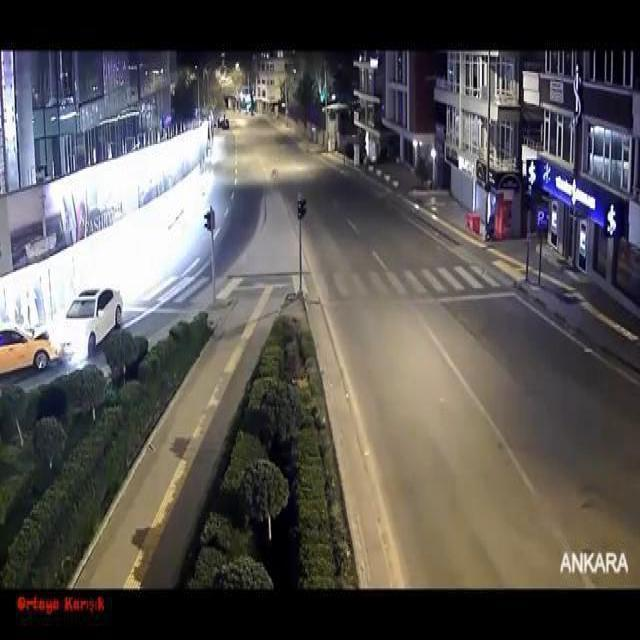multiple_accident: (16, 276, 106, 390)
